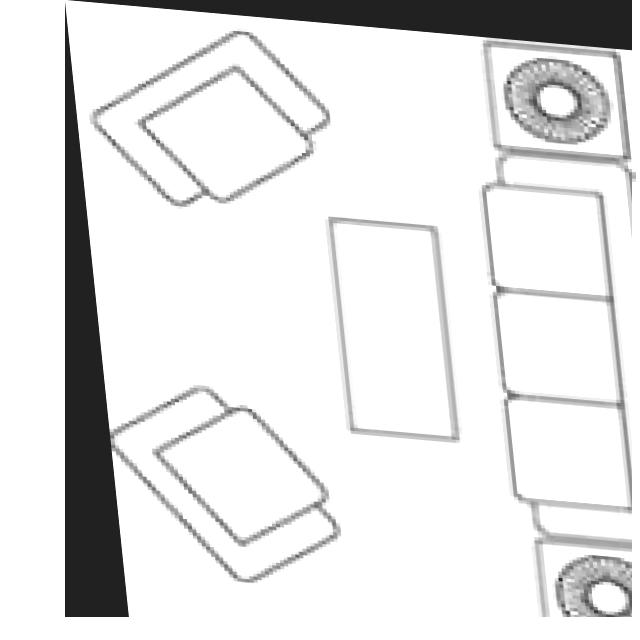sofa: (65, 0, 632, 617)
